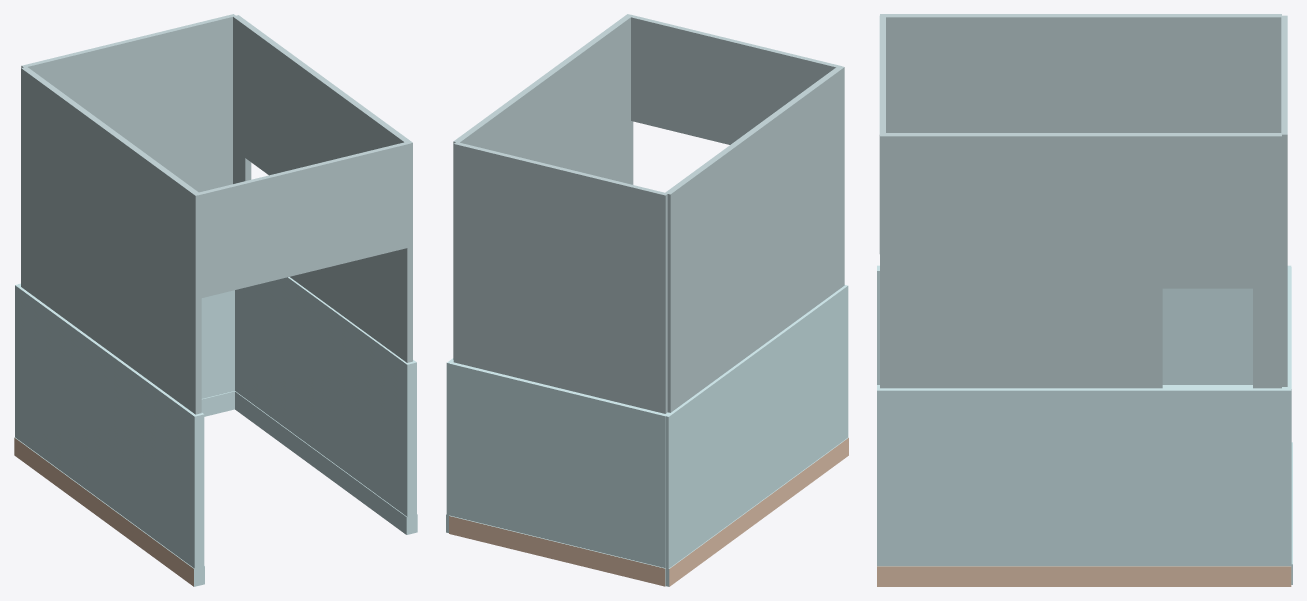
File: walls2.dae
3 renders of one model, left to right at view 1: azimuth 30°, elevation 25°; view 2: azimuth 150°, elevation 25°; view 3: azimuth 270°, elevation 25°, orthographic. The views are drawn at different scales.
Visible parts, largest first — view 1: Glass, Wall.001, Wall, Wall.003; view 2: Glass, Wall.003, Wall.001, Wall; view 3: Glass, Wall, Wall.001, Wall.003.
Part boxes in pixels (x1=…): Glass: x1=21, y1=14, x2=412, y2=414; Wall.001: x1=14, y1=284, x2=204, y2=586; Wall: x1=235, y1=277, x2=417, y2=534; Wall.003: x1=18, y1=283, x2=234, y2=416; Glass: x1=453, y1=14, x2=844, y2=413; Wall.003: x1=449, y1=361, x2=669, y2=586; Wall.001: x1=666, y1=285, x2=848, y2=586; Wall: x1=446, y1=358, x2=453, y2=532; Glass: x1=879, y1=14, x2=1287, y2=388; Wall: x1=877, y1=385, x2=1291, y2=586; Wall.001: x1=877, y1=265, x2=1291, y2=384; Wall.003: x1=1274, y1=267, x2=1292, y2=584.
Size of the model in its own units: 1.12 by 1.57 by 1.86.
